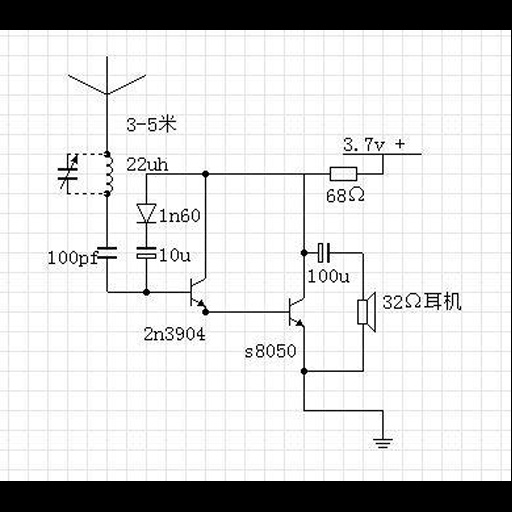capacitor: (96, 241, 120, 263), (314, 239, 333, 264), (133, 245, 157, 264)
firstresistance: (324, 164, 361, 183)
gnd: (371, 437, 397, 451)
loudspeaker: (351, 292, 379, 334)
npn: (179, 274, 211, 316), (279, 293, 309, 332)
seconddiode: (130, 200, 159, 226)
